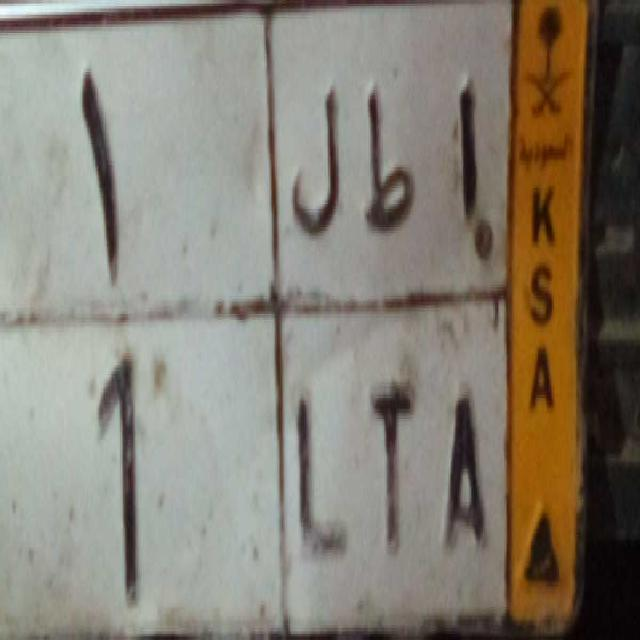license_plate: (0, 297, 511, 640)
